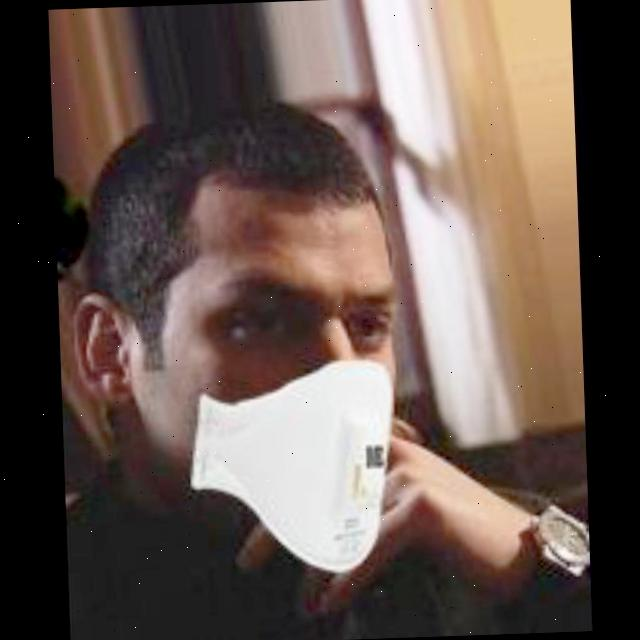suspicion: (101, 121, 465, 582)
